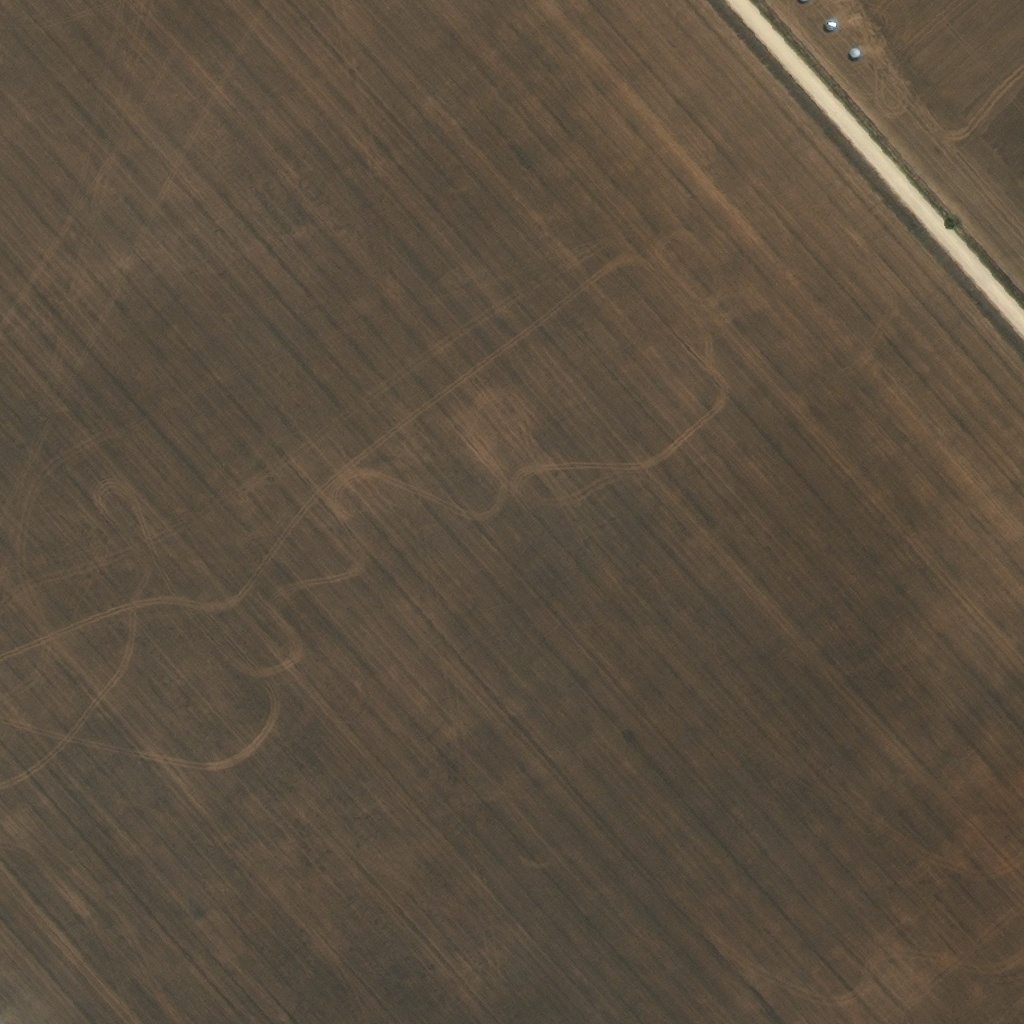4 un-classified: (980, 162, 991, 172)
